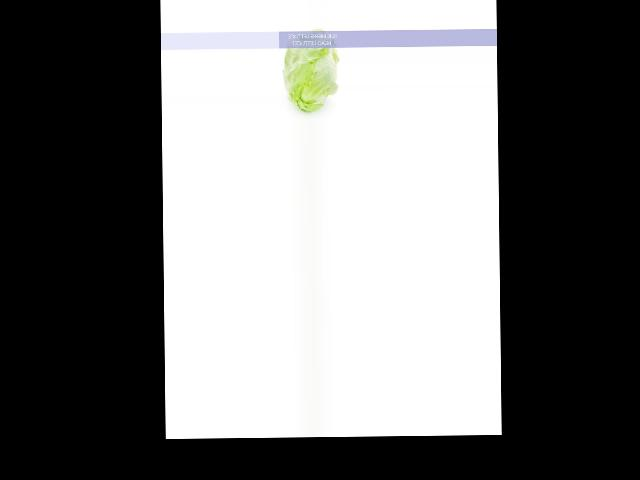lettuce: (284, 28, 339, 116)
